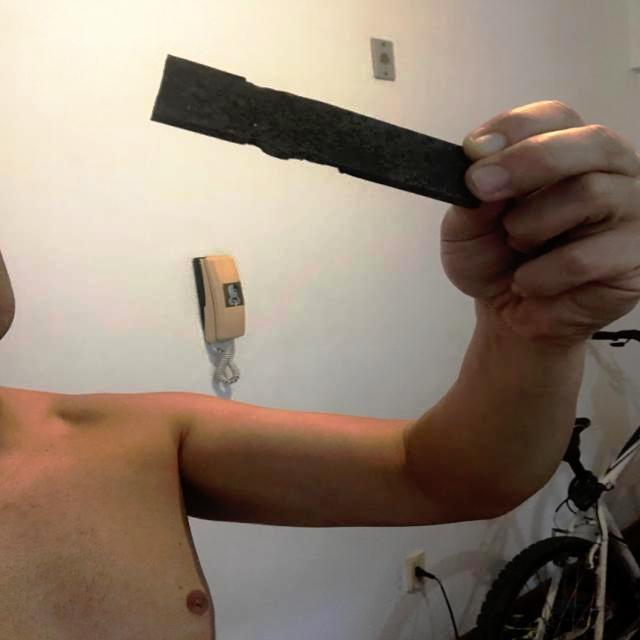Corrosion: (150, 54, 483, 209)
